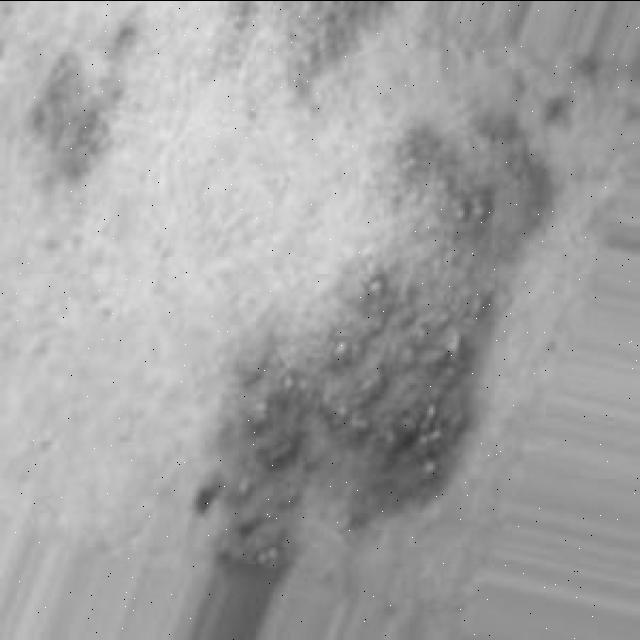Shingles: (203, 115, 556, 571), (29, 51, 130, 185)
